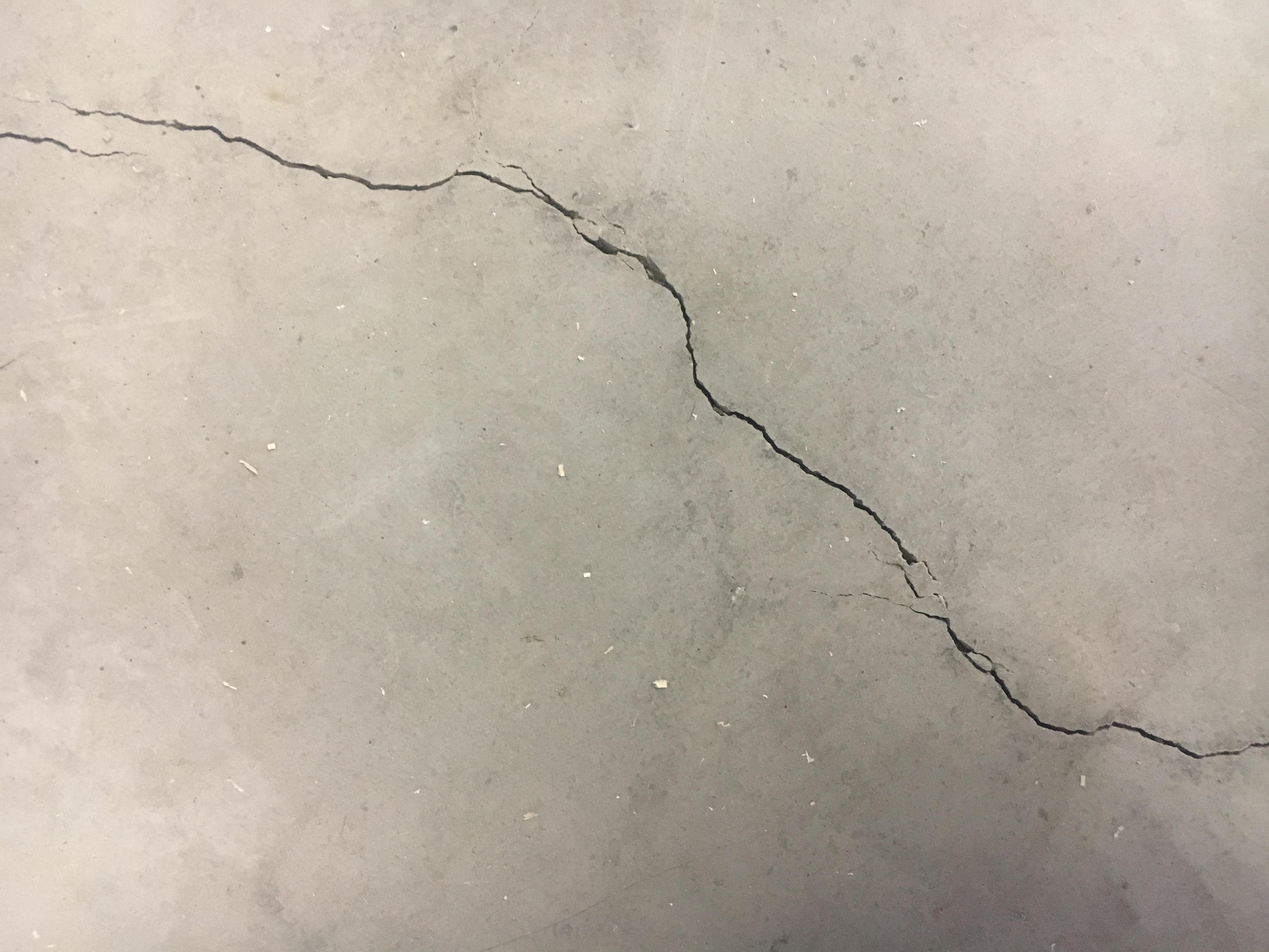Diagonal Crack: (4, 91, 1264, 763)
